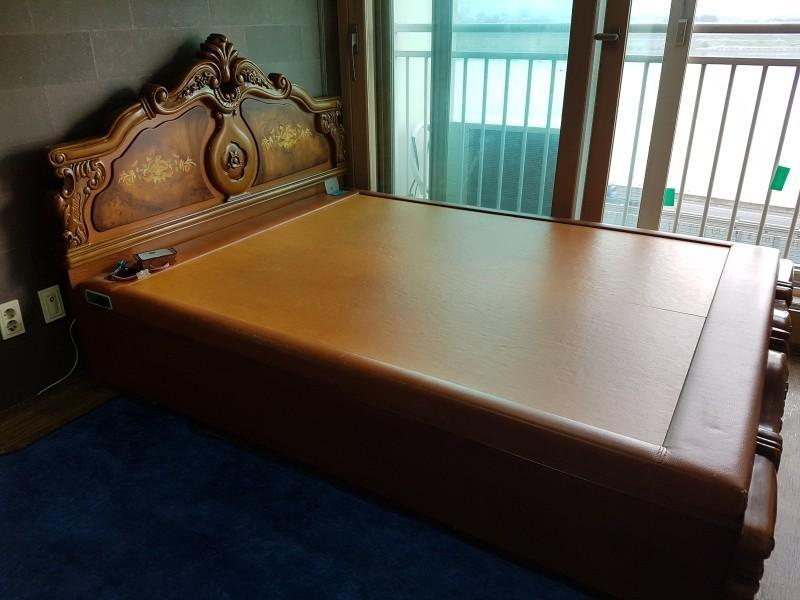Bed-Mattress: (37, 23, 780, 552)
